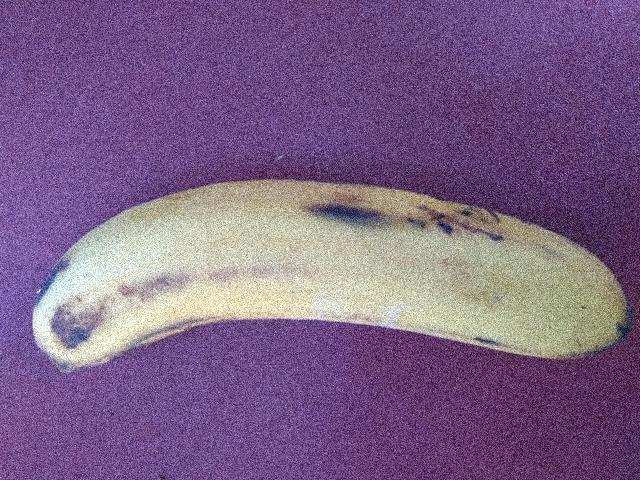ripe: (20, 172, 639, 391)
